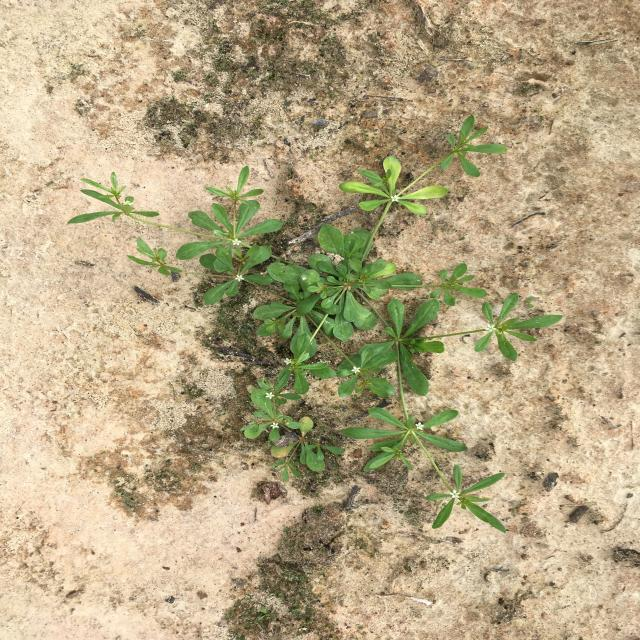Carpetweed: (67, 115, 563, 533)
